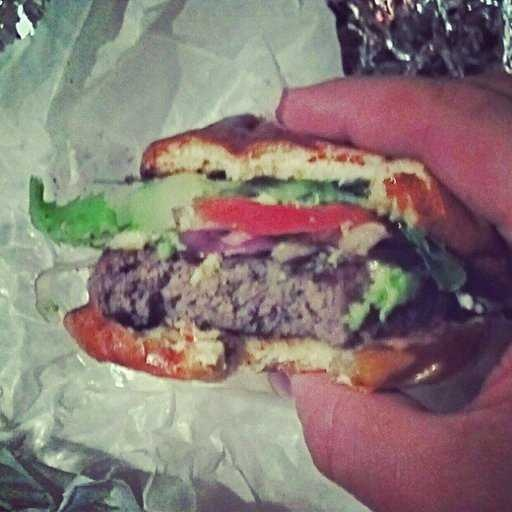hamburger: (76, 117, 479, 411)
